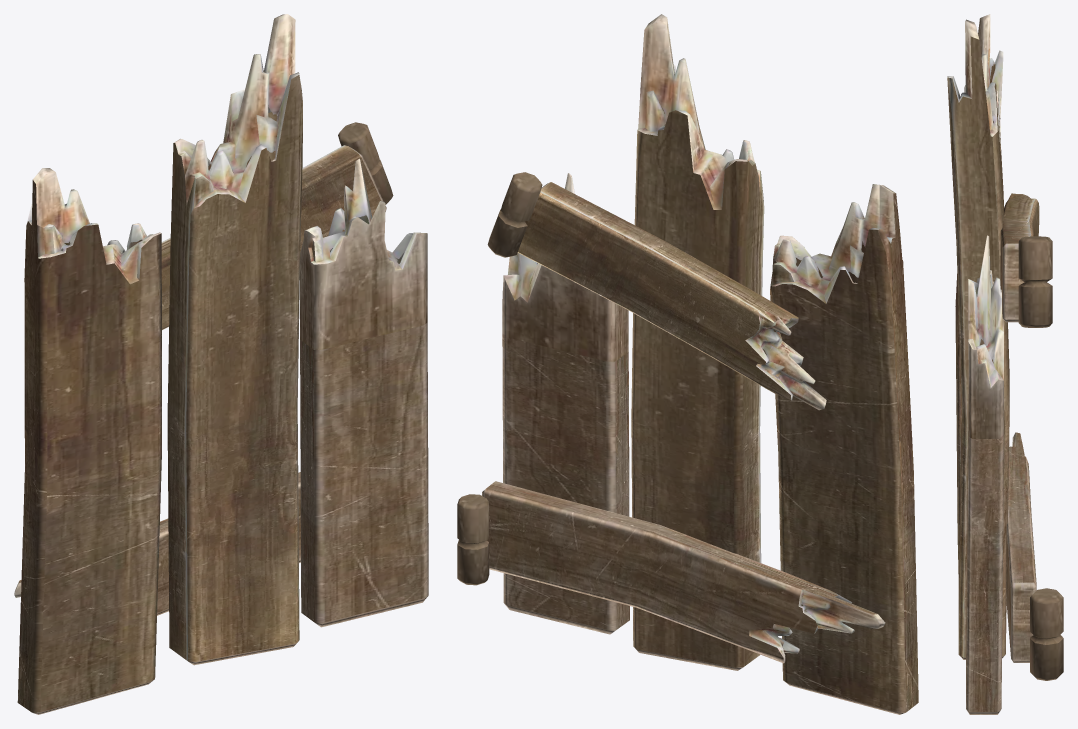
The picture shows the model from 3 angles, left to right: view 1: azimuth 30°, elevation 25°; view 2: azimuth 150°, elevation 25°; view 3: azimuth 270°, elevation 25°; orthographic projection.
Parts seen in each view (by area): view 1: SM_Human_Ruins_Shutter_Dmg_02_LOD0; view 2: SM_Human_Ruins_Shutter_Dmg_02_LOD0; view 3: SM_Human_Ruins_Shutter_Dmg_02_LOD0.
Part boxes in pixels (bbox=[...]): SM_Human_Ruins_Shutter_Dmg_02_LOD0: bbox=[14, 14, 428, 714]; SM_Human_Ruins_Shutter_Dmg_02_LOD0: bbox=[457, 14, 918, 714]; SM_Human_Ruins_Shutter_Dmg_02_LOD0: bbox=[947, 14, 1063, 714].
Bounding box in the file's own units: 0.9213 × 1.33 × 0.2187.
Materials: 1 (1 with a texture image).
